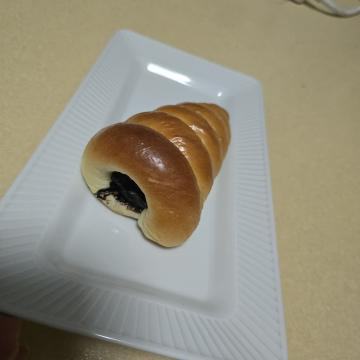cream horn: (90, 121, 271, 290)
